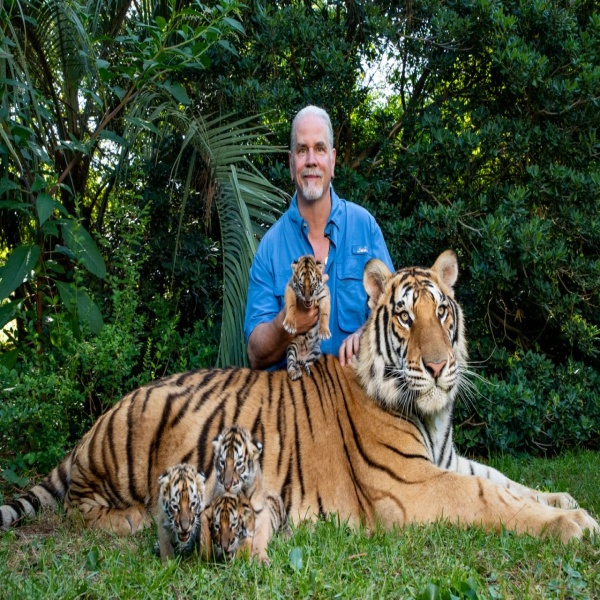Tiger: (1, 249, 597, 549), (282, 254, 332, 381), (156, 464, 213, 571), (206, 424, 268, 499), (204, 501, 257, 564)
